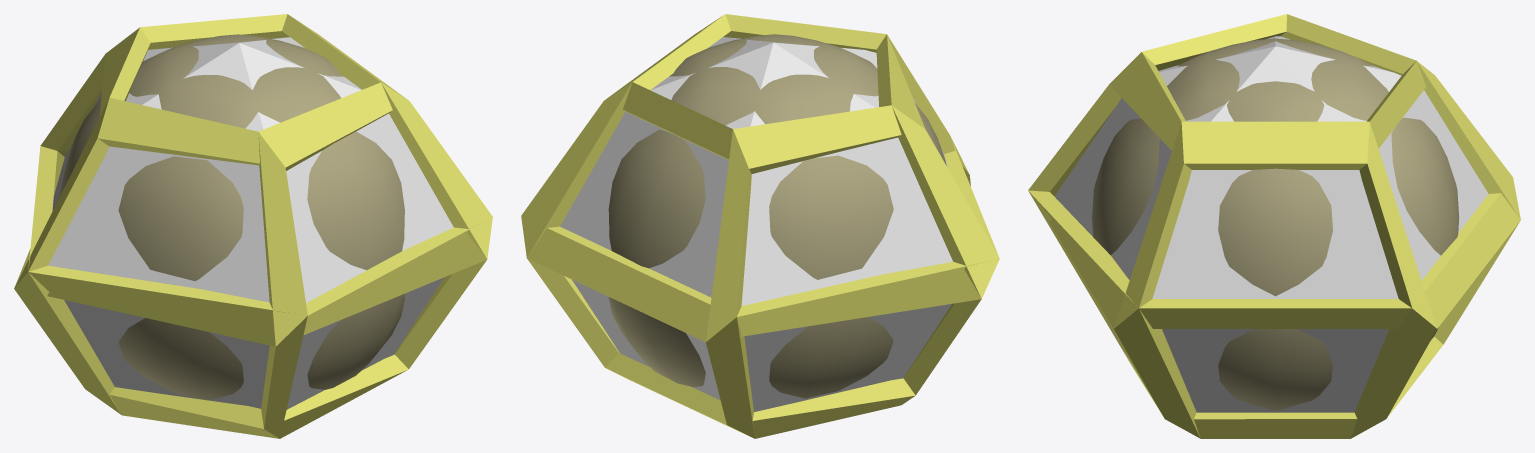
Rendered from Electric.Med.01.fbx.
3 renders of one model, left to right at view 1: azimuth 30°, elevation 25°; view 2: azimuth 150°, elevation 25°; view 3: azimuth 270°, elevation 25°, orthographic.
Parts seen in each view (by area): view 1: B.Electric.Med.01, A.Electric.Med.01; view 2: B.Electric.Med.01, A.Electric.Med.01; view 3: B.Electric.Med.01, A.Electric.Med.01.
Boxes of the visible parts, x1=… form: B.Electric.Med.01: x1=14, y1=14, x2=492, y2=438; A.Electric.Med.01: x1=48, y1=37, x2=453, y2=409; B.Electric.Med.01: x1=521, y1=14, x2=999, y2=438; A.Electric.Med.01: x1=560, y1=37, x2=952, y2=411; B.Electric.Med.01: x1=1028, y1=14, x2=1520, y2=438; A.Electric.Med.01: x1=1054, y1=36, x2=1488, y2=412.
Bounding box in the file's own units: 154 × 132 × 161.
